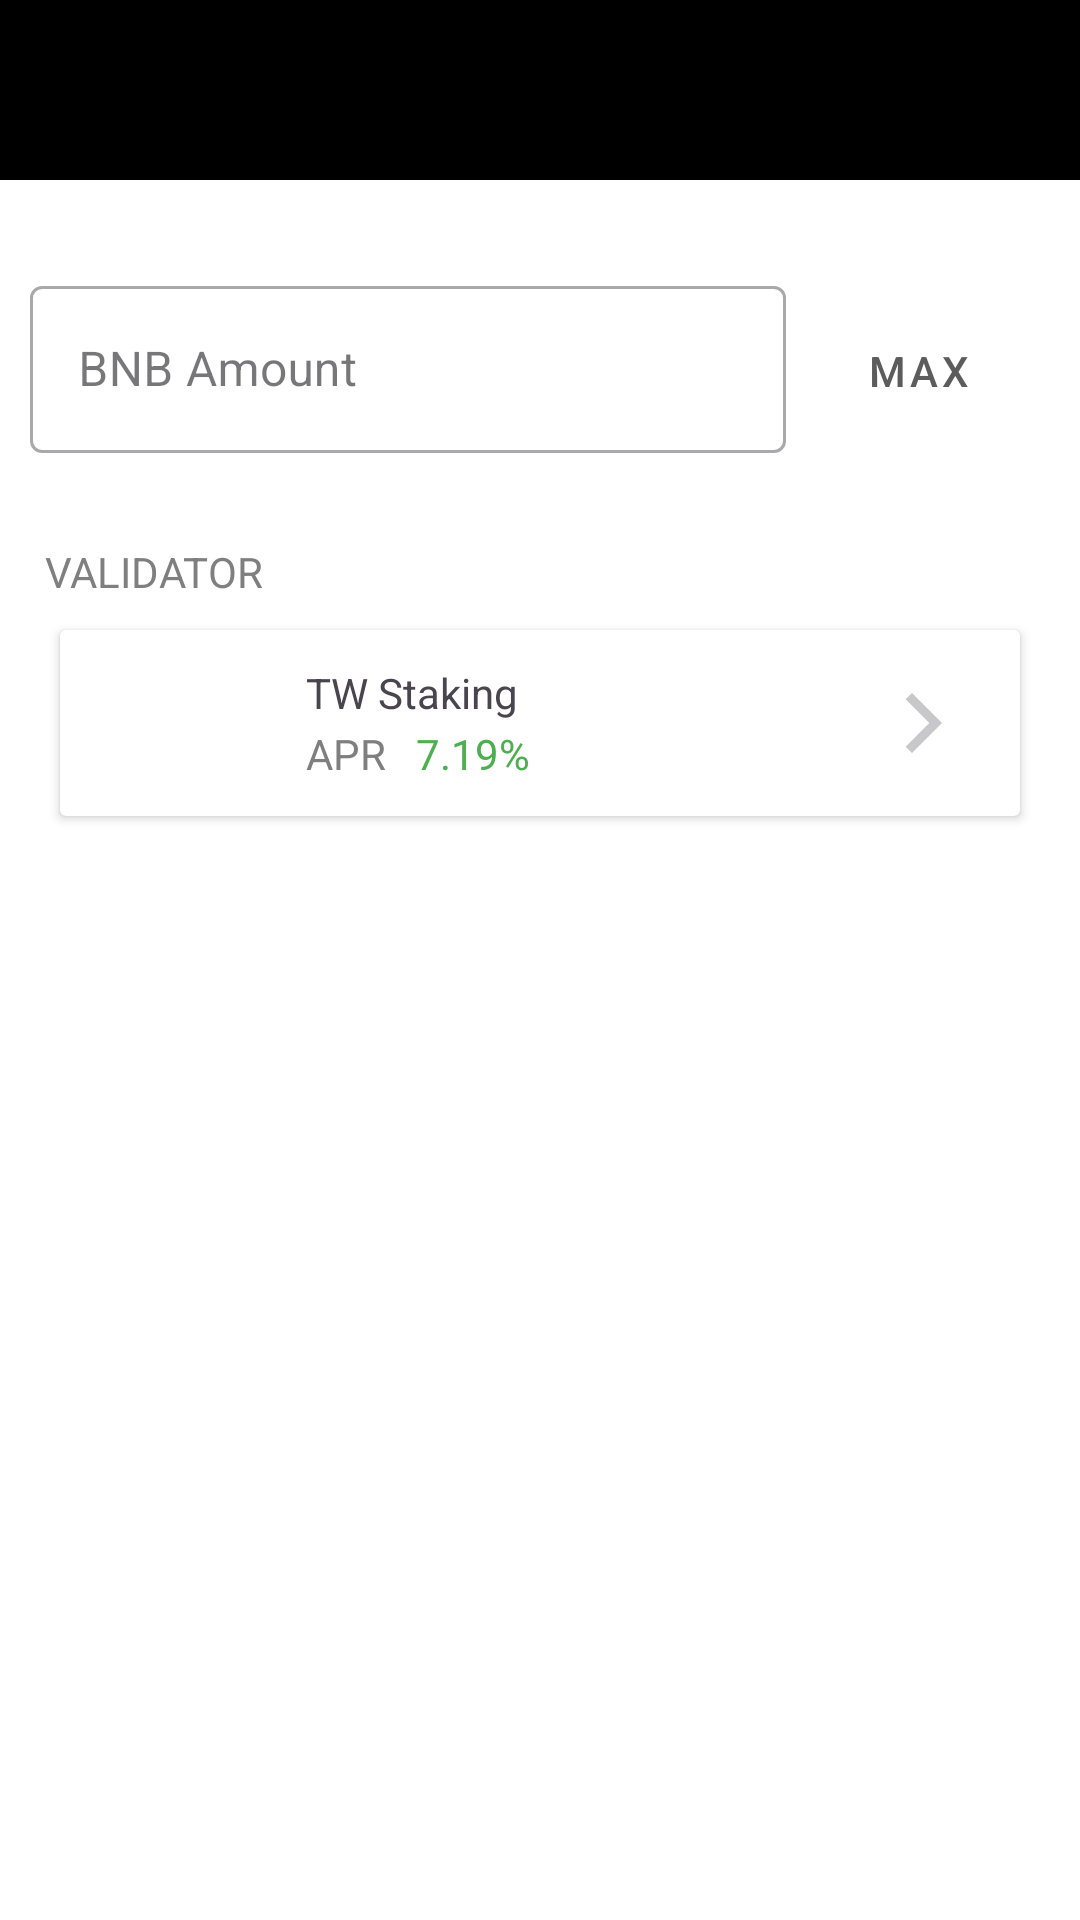

Where to tap for icons on this 1080px×1920px app screen, as (x,y):
right: (924,723)
